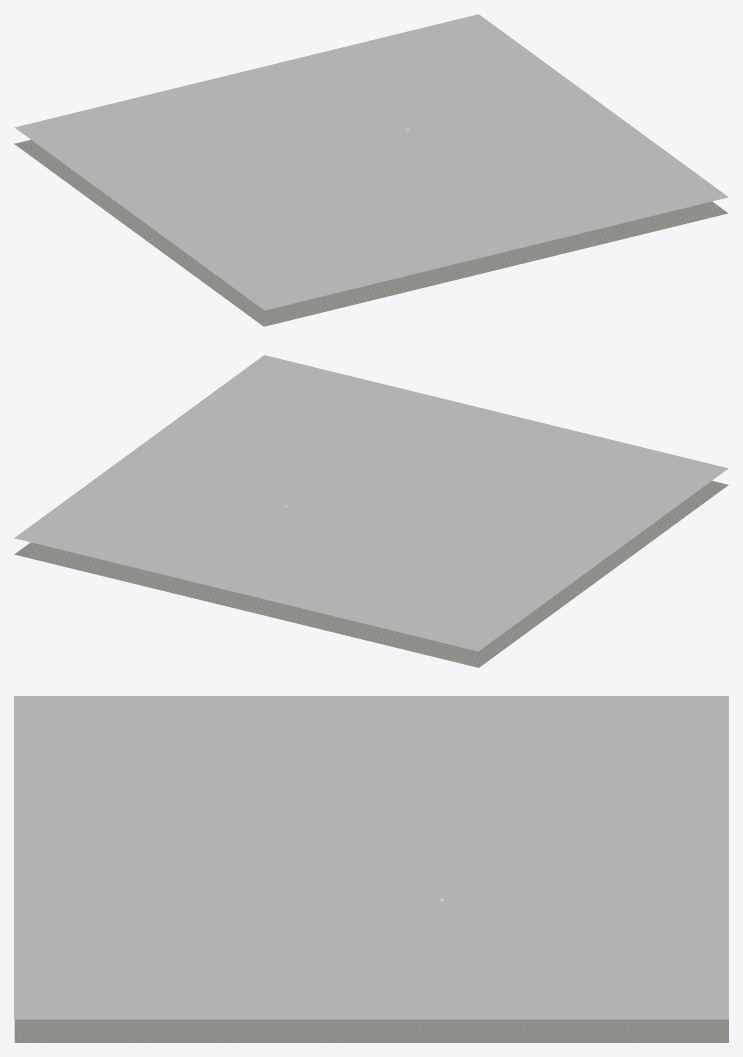
Rendered from empty-store.glb.
The picture shows the model from 3 angles, top to bottom: view 1: azimuth 30°, elevation 25°; view 2: azimuth 150°, elevation 25°; view 3: azimuth 270°, elevation 25°; orthographic projection. The views are drawn at different scales.
Visible parts, largest first — view 1: Ceiling, Floor; view 2: Ceiling, Floor; view 3: Ceiling, Floor.
Part boxes in pixels (box(x1,y1,x2,y2)): Ceiling: box(14, 14, 728, 310); Floor: box(14, 139, 728, 326); Ceiling: box(14, 355, 728, 651); Floor: box(14, 481, 728, 667); Ceiling: box(14, 696, 728, 1019); Floor: box(14, 1019, 728, 1042).
Size of the model in its own units: 143 by 4.81 by 134.
Materials: 20 (7 with a texture image).
